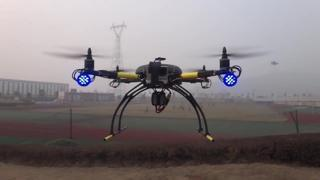UAV: (262, 119, 320, 180)
